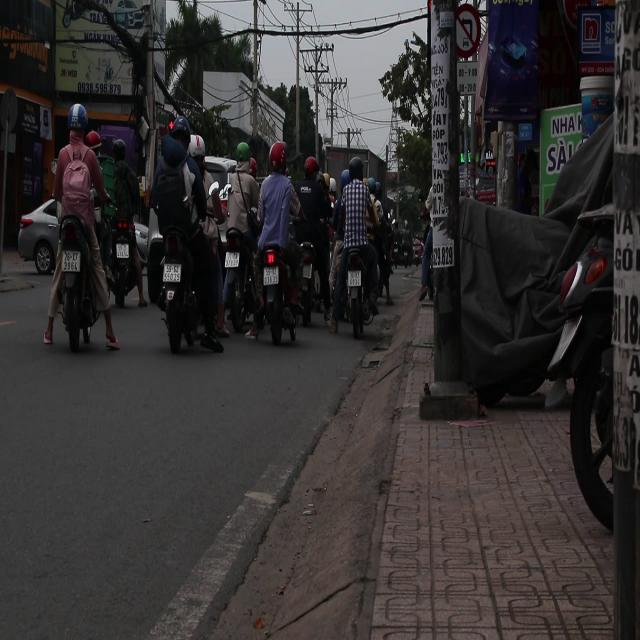car: (17, 185, 122, 285)
motorbike: (157, 238, 221, 354), (104, 153, 149, 308), (51, 220, 105, 343), (255, 226, 299, 340), (331, 245, 381, 338)
